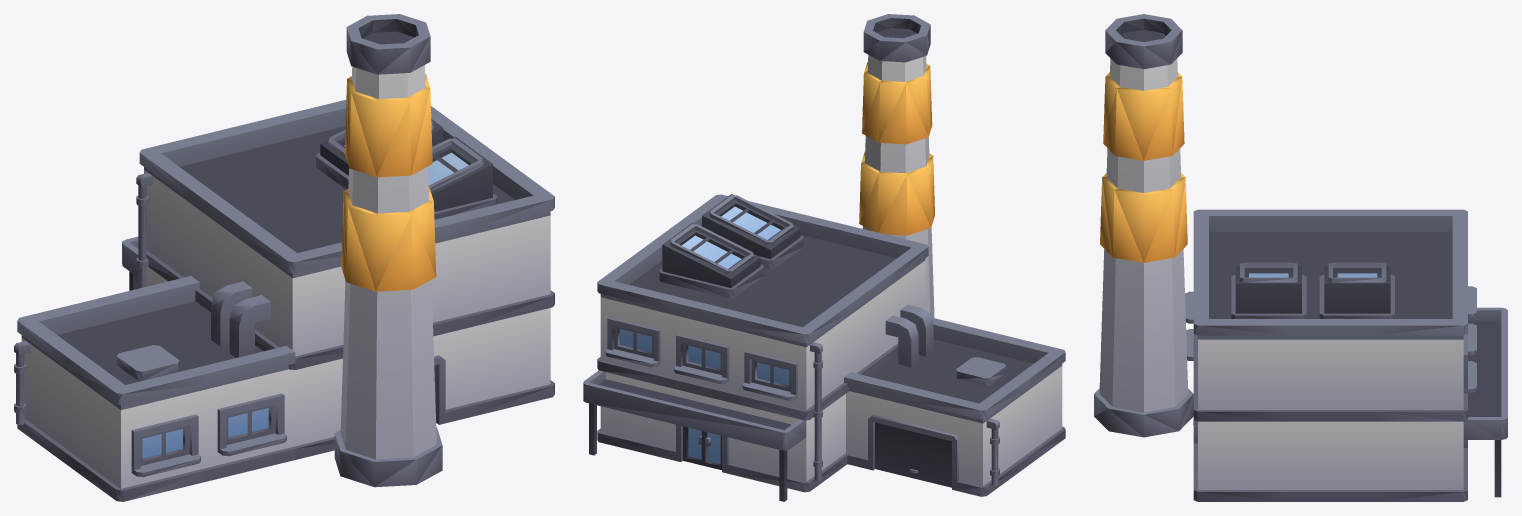
File: ki_building_l.fbx
The picture shows the model from 3 angles, left to right: view 1: azimuth 30°, elevation 25°; view 2: azimuth 150°, elevation 25°; view 3: azimuth 270°, elevation 25°; orthographic projection. The views are drawn at different scales.
Visible parts, largest first — view 1: ki_building_l_LOD0; view 2: ki_building_l_LOD0; view 3: ki_building_l_LOD0.
Part boxes in pixels (x1,y1,x2,y2): ki_building_l_LOD0: (14,14,554,501); ki_building_l_LOD0: (583,14,1065,501); ki_building_l_LOD0: (1094,14,1507,501).
Size of what is drawn, in the model's own units: 17.71 by 16.36 by 15.9.
1 material, 1 textured.
